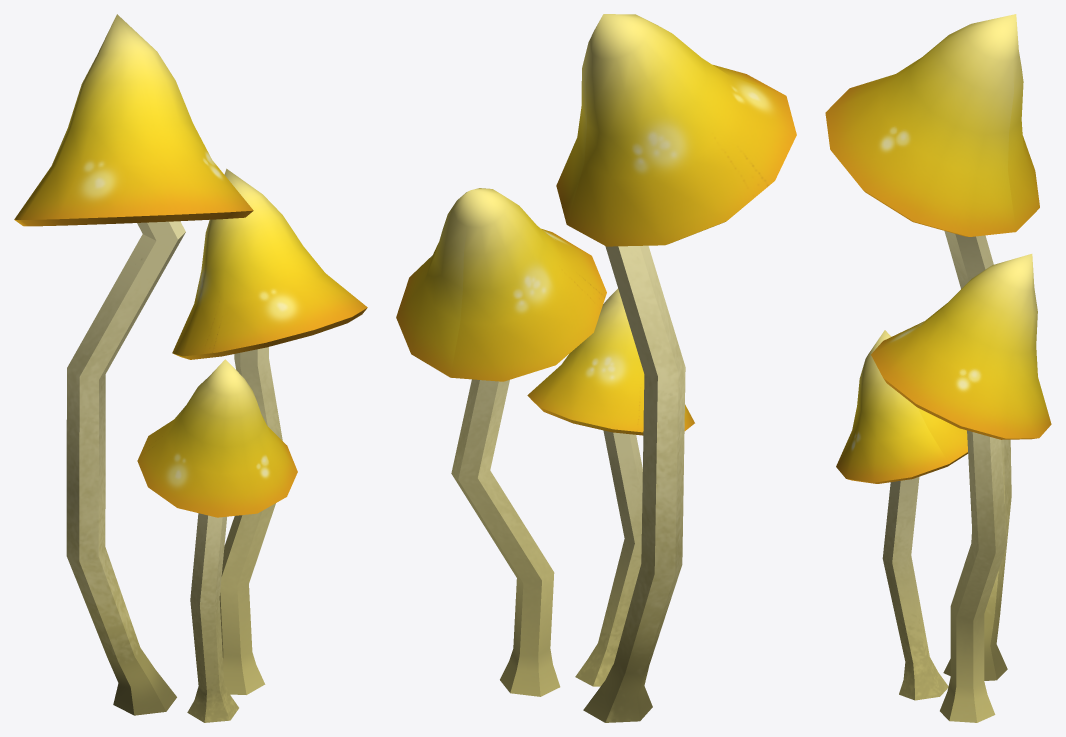
File: Env_mesh_mushroom_001.FBX
The picture shows the model from 3 angles, left to right: view 1: azimuth 30°, elevation 25°; view 2: azimuth 150°, elevation 25°; view 3: azimuth 270°, elevation 25°; orthographic projection. The views are drawn at different scales.
Visible parts, largest first — view 1: Line141; view 2: Line141; view 3: Line141.
Part boxes in pixels (x1,y1,x2,y2): Line141: (14,14,367,722); Line141: (396,14,796,722); Line141: (825,14,1051,722).
Size of the model in its own units: 56.53 by 107 by 33.47.
